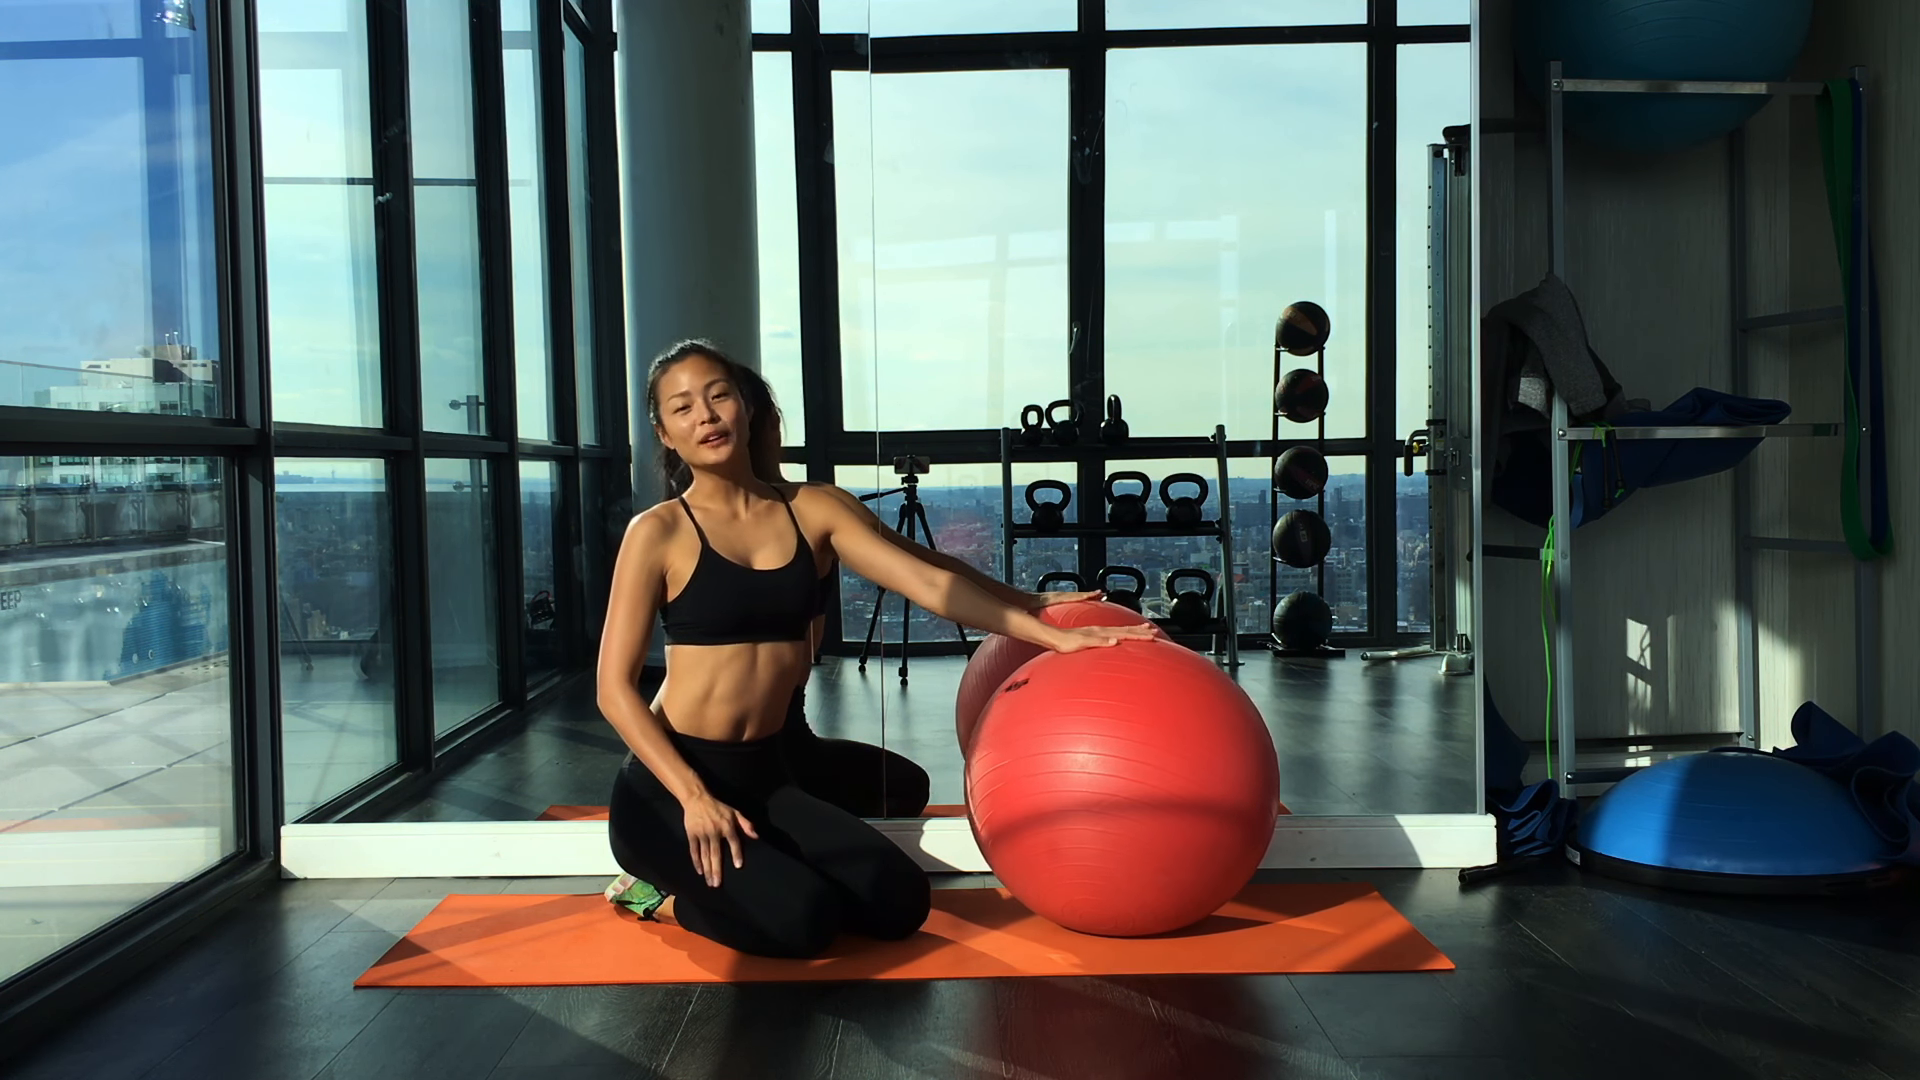yogaball: (963, 636, 1300, 943)
